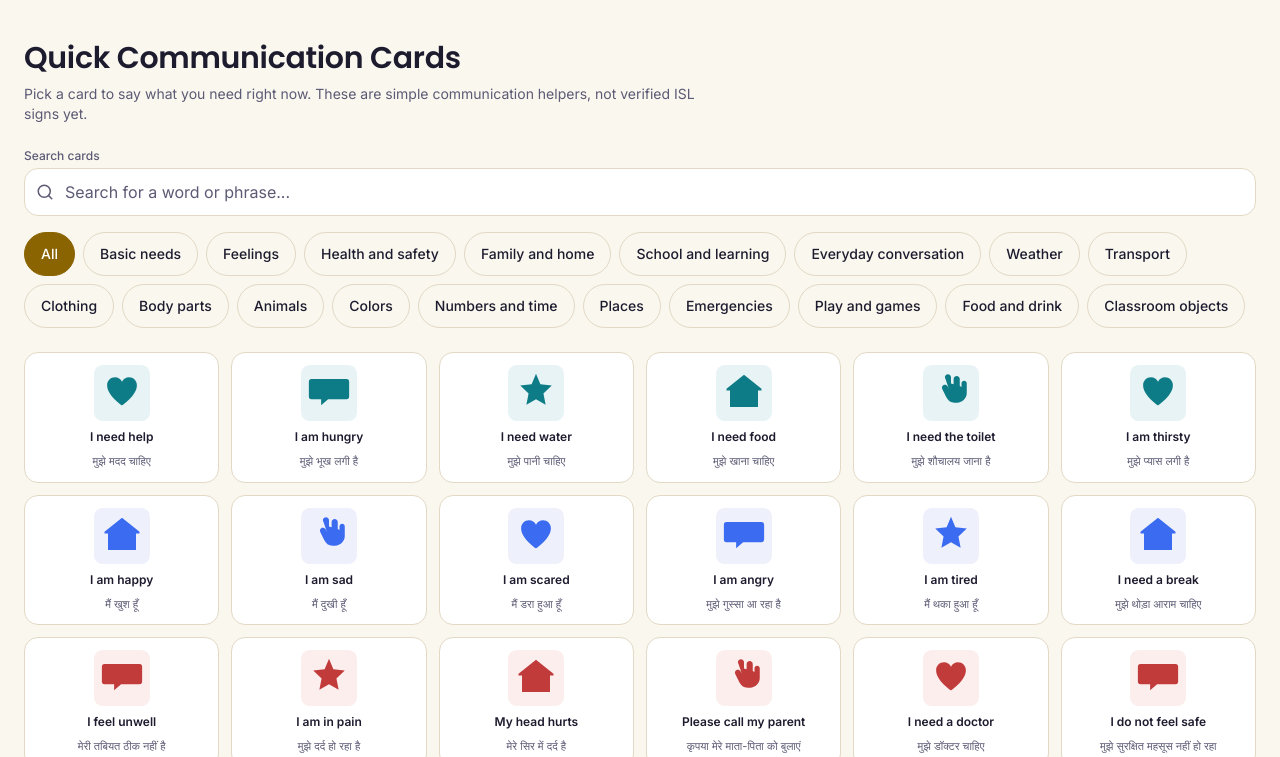
Test: CardsClient › allows adding the same card twice, producing two separate chips
Click the text "I need help".
click(122, 437)  # box x1=90 y1=429 x2=153 y2=445
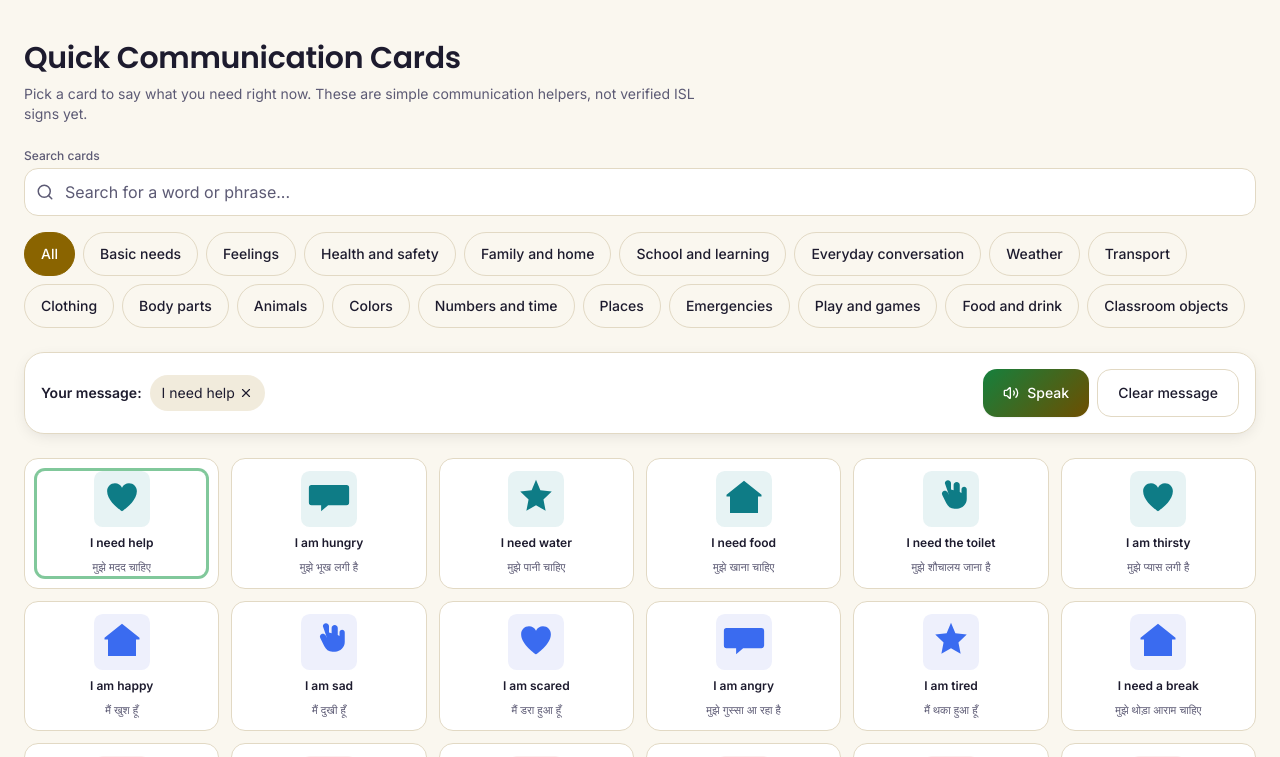
Click the text "I need help".
click(122, 543)  # box x1=90 y1=535 x2=153 y2=551
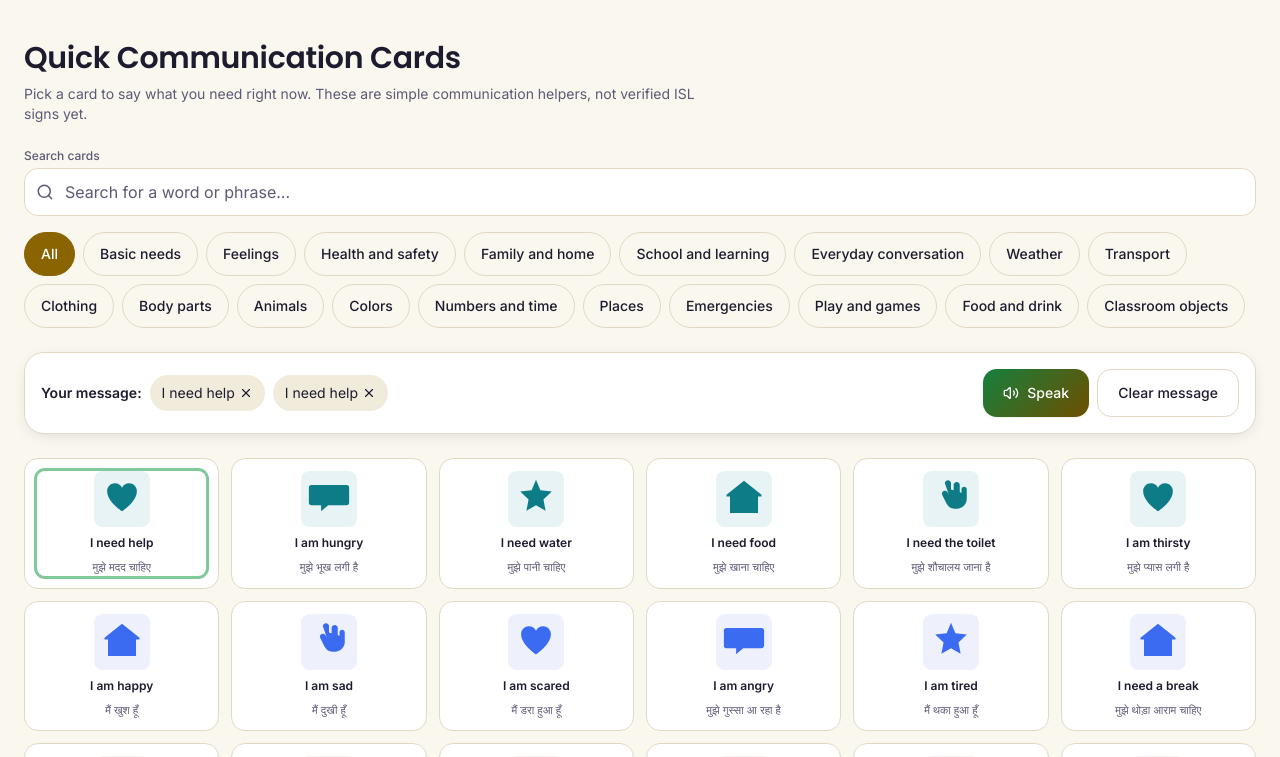
Result: the number of buttons named "Remove I need help" is 2 at x1=150 y1=375 x2=265 y2=411; x1=273 y1=375 x2=388 y2=411
